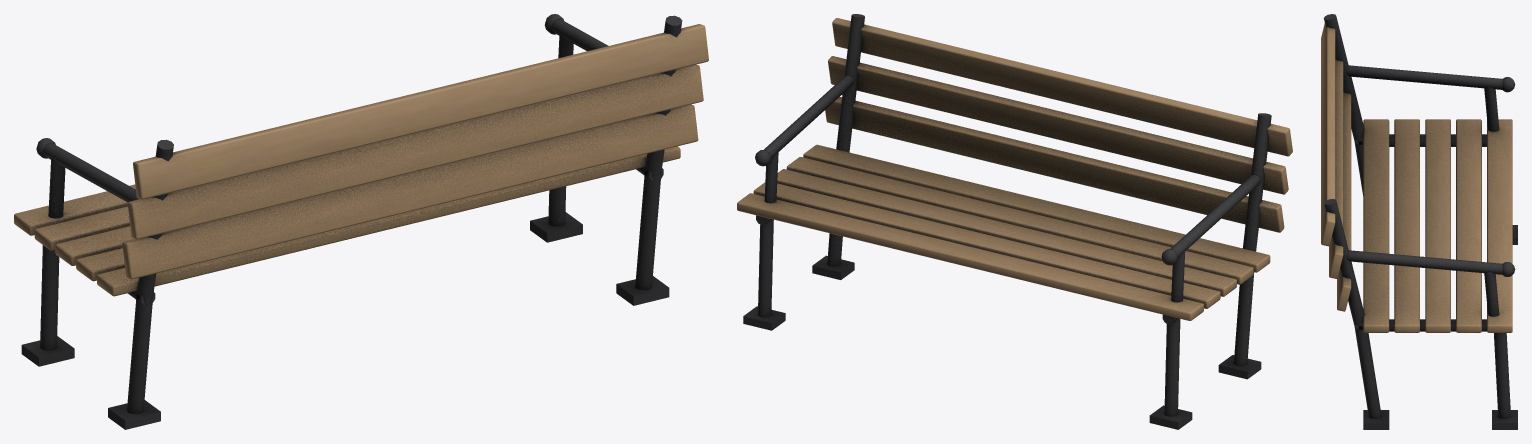
The model's file is bench.glb.
The picture shows the model from 3 angles, left to right: view 1: azimuth 30°, elevation 25°; view 2: azimuth 150°, elevation 25°; view 3: azimuth 270°, elevation 25°; orthographic projection. The views are drawn at different scales.
Parts seen in each view (by area): view 1: arm+1; view 2: arm+1; view 3: arm+1.
Boxes of the visible parts, x1,y1,x2,y2 form: arm+1: (14, 14, 708, 429); arm+1: (737, 14, 1292, 429); arm+1: (1321, 14, 1517, 429).
Size of the model in its own units: 1.9 by 0.9591 by 0.7646.
Materials: 1 (1 with a texture image).
